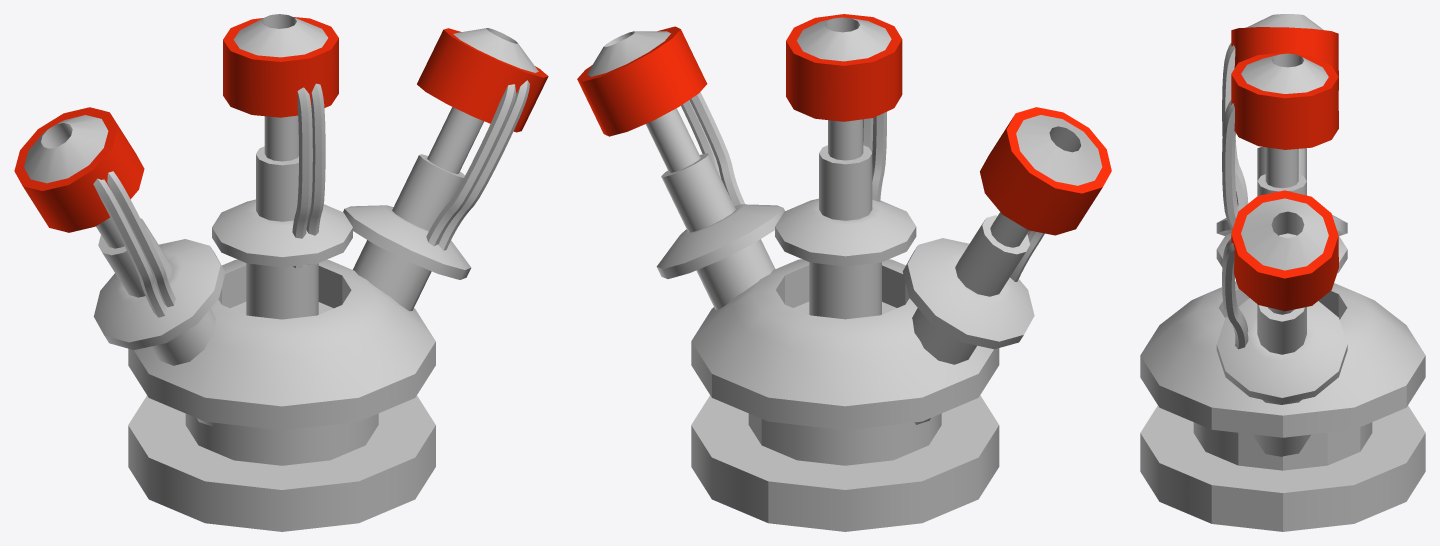
The model's file is Tesla_No_Tex.fbx.
The picture shows the model from 3 angles, left to right: view 1: azimuth 30°, elevation 25°; view 2: azimuth 150°, elevation 25°; view 3: azimuth 270°, elevation 25°; orthographic projection. The views are drawn at different scales.
Parts seen in each view (by area): view 1: Cylinder004, Light Objects; view 2: Cylinder004, Light Objects; view 3: Cylinder004, Light Objects.
Part boxes in pixels (x1,y1,x2,y2): Cylinder004: [24, 14, 538, 531]; Light Objects: [14, 17, 548, 232]; Cylinder004: [587, 17, 1102, 531]; Light Objects: [577, 14, 1111, 235]; Cylinder004: [1140, 14, 1425, 531]; Light Objects: [1231, 27, 1338, 311].
Bounding box in the file's own units: 230 × 189 × 119.
